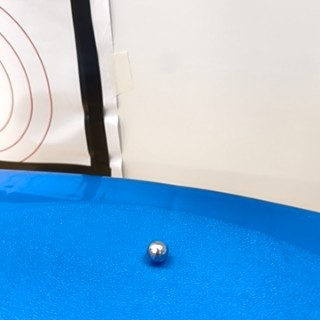ironball: (146, 238, 171, 265)
